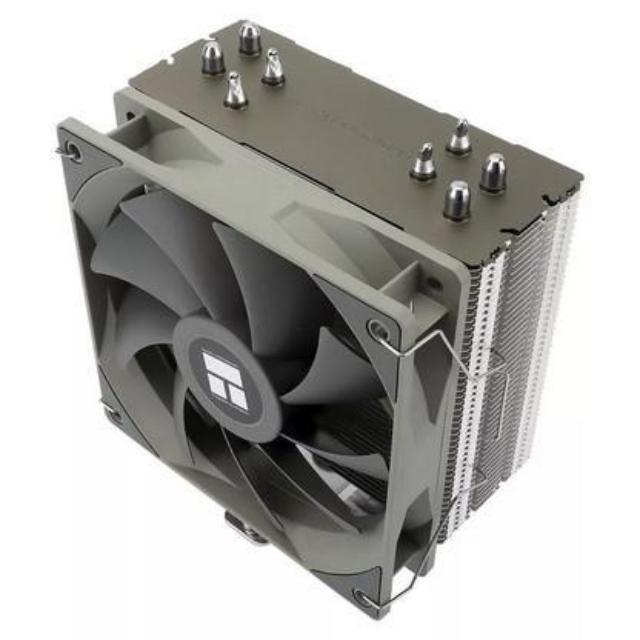CPU_Fan: (50, 14, 582, 626)
